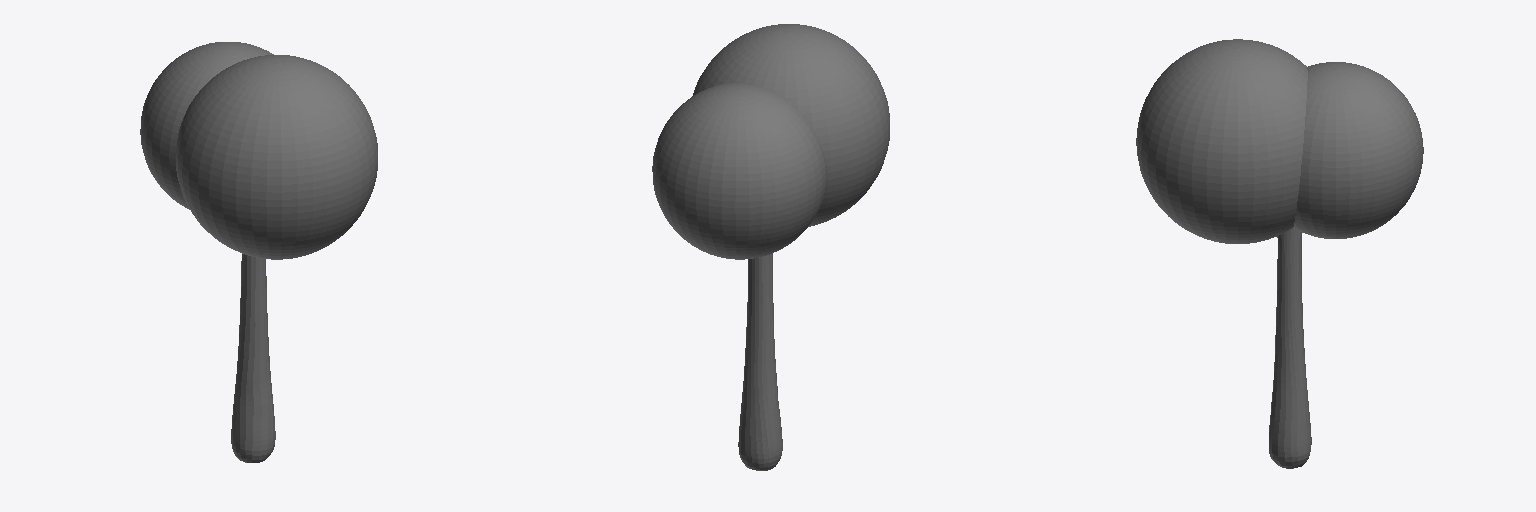
Rendered from High_Poly_Without_Fruit.obj.
The picture shows the model from 3 angles: view 1: azimuth 30°, elevation 25°; view 2: azimuth 150°, elevation 25°; view 3: azimuth 270°, elevation 25°; orthographic projection.
Parts seen in each view (by area): view 1: pSphere8 Good_One; view 2: pSphere8 Good_One; view 3: pSphere8 Good_One.
Part boxes in pixels (x1,y1,x2,y2): pSphere8 Good_One: (140, 42, 377, 462); pSphere8 Good_One: (652, 24, 889, 470); pSphere8 Good_One: (1136, 39, 1423, 468).
Bounding box in the file's own units: 1.26 × 2.84 × 1.78.